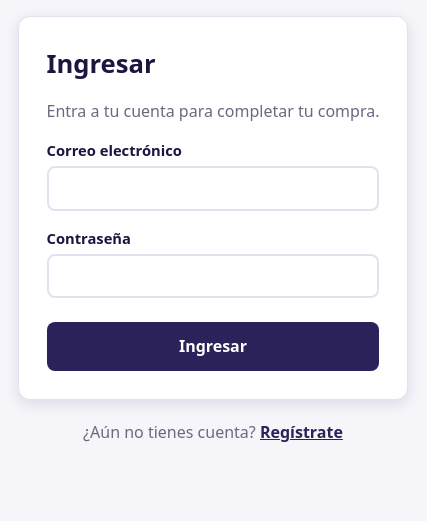
Test case: Login › avisa cuando las credenciales son incorrectas
The image size is (427, 521).
Type "ana@correo.com" into the field labelled "Correo electrónico" at (213, 188), box [46, 166, 380, 211]
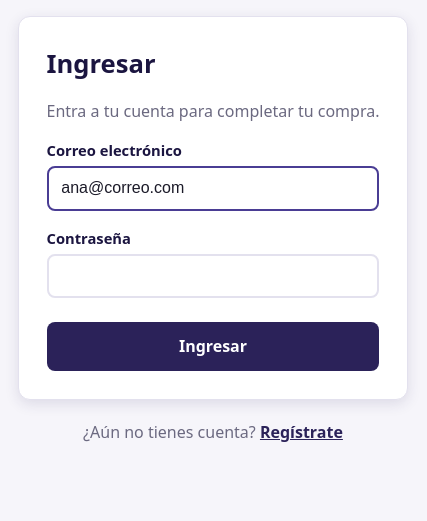
Type "incorrecta" into the password field labelled "Contraseña" at (213, 276), box [46, 254, 380, 298]
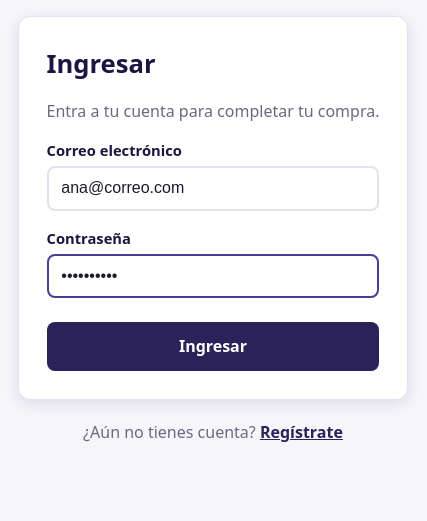
Click the button "Ingresar" at (213, 346), box [46, 322, 380, 371]
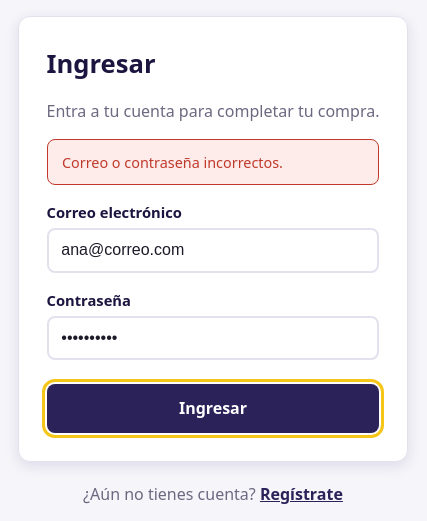
Expected: the text "Correo o contraseña incorrectos." is shown, [46, 139, 380, 185]
